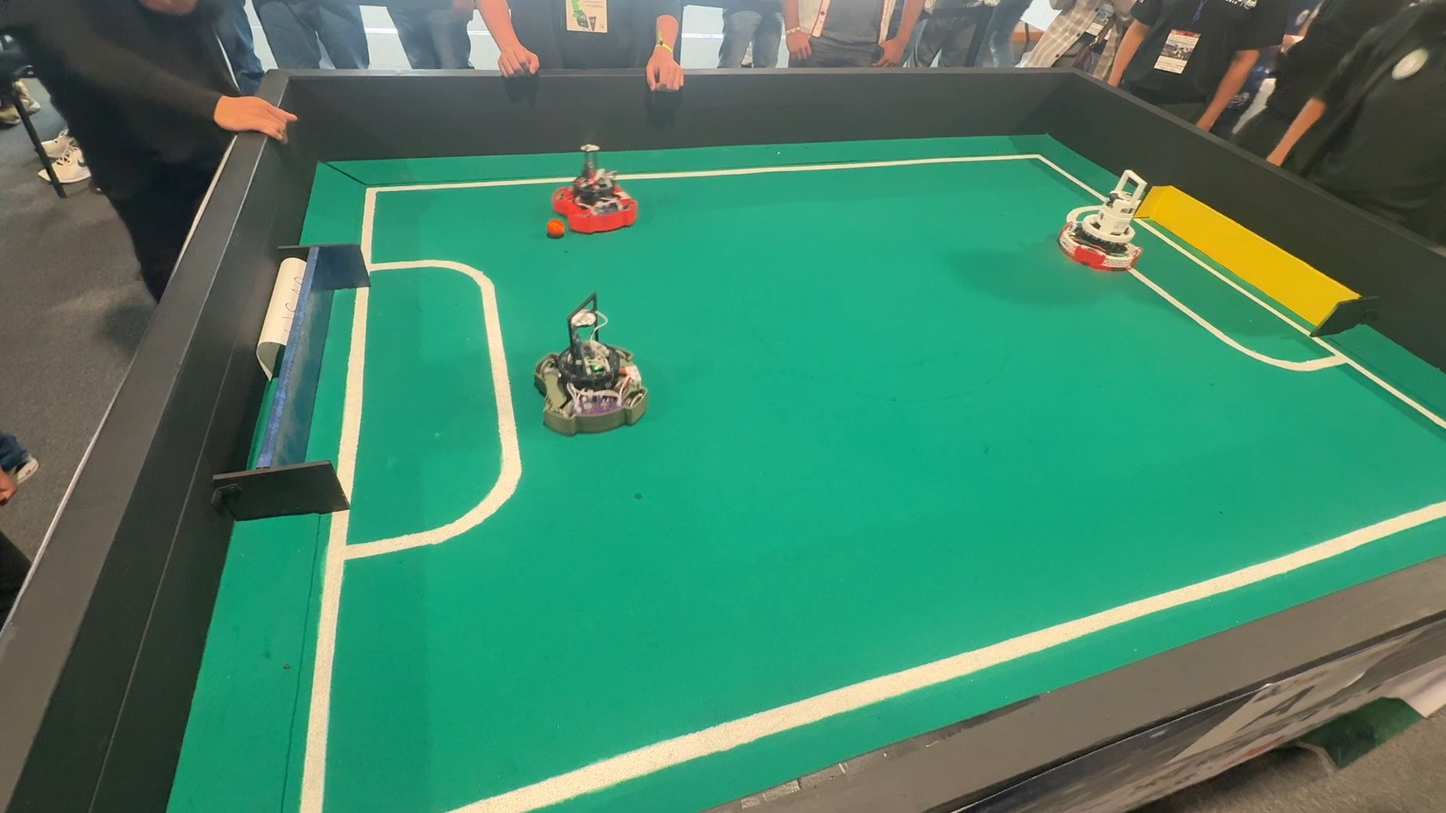Robot: (525, 288, 653, 447), (1052, 169, 1183, 284), (543, 160, 655, 244)
